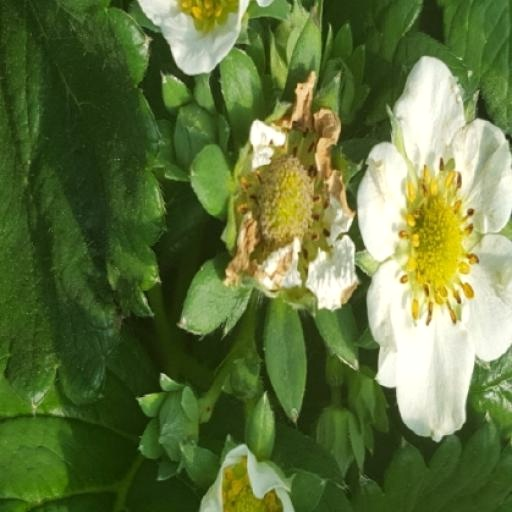Blossom Blight: (28, 182, 118, 357), (177, 235, 276, 388)
